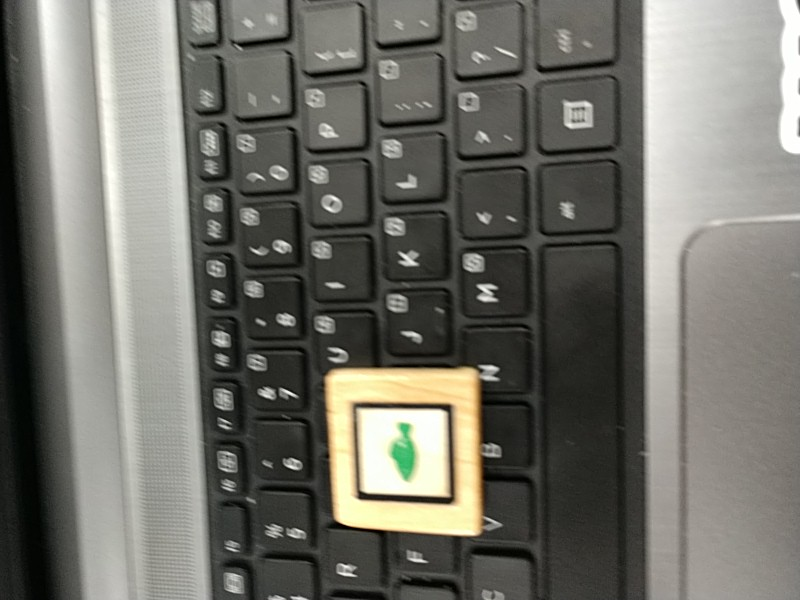Fish Tile: (345, 395, 461, 513)
